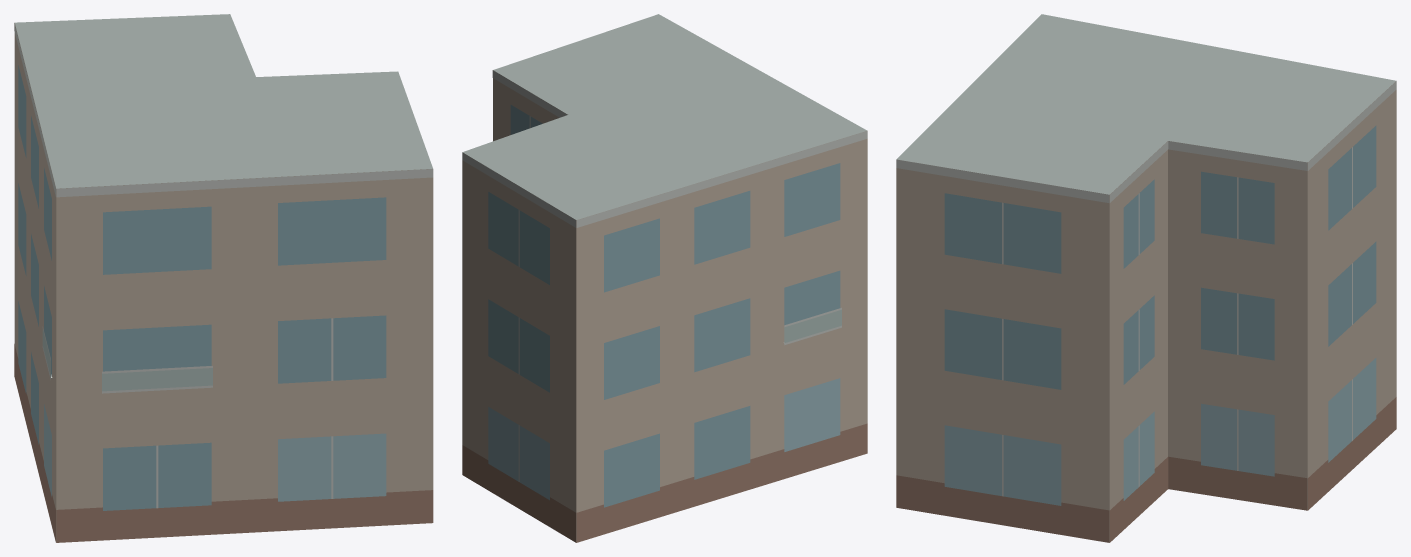
Rendered from survey-upis-32508807.glb.
3 renders of one model, left to right at view 1: azimuth 30°, elevation 25°; view 2: azimuth 150°, elevation 25°; view 3: azimuth 270°, elevation 25°, orthographic. The views are drawn at different scales.
Visible parts, largest first — view 1: survey-upis-32508807.tmp; view 2: survey-upis-32508807.tmp; view 3: survey-upis-32508807.tmp.
Boxes of the visible parts, box(x1,y1,x2,y2) form: survey-upis-32508807.tmp: box(14, 14, 433, 542); survey-upis-32508807.tmp: box(462, 14, 867, 542); survey-upis-32508807.tmp: box(896, 14, 1396, 542).
Size of the model in its own units: 11.03 by 9.9 by 12.9.
